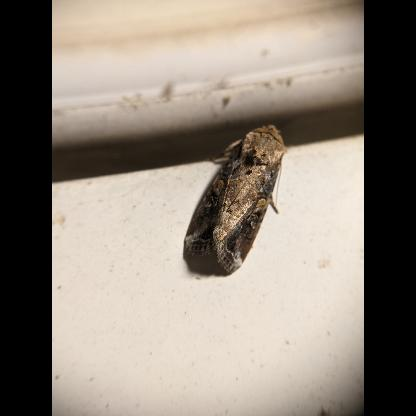Fall Armyworm Moth: (175, 122, 289, 276)
